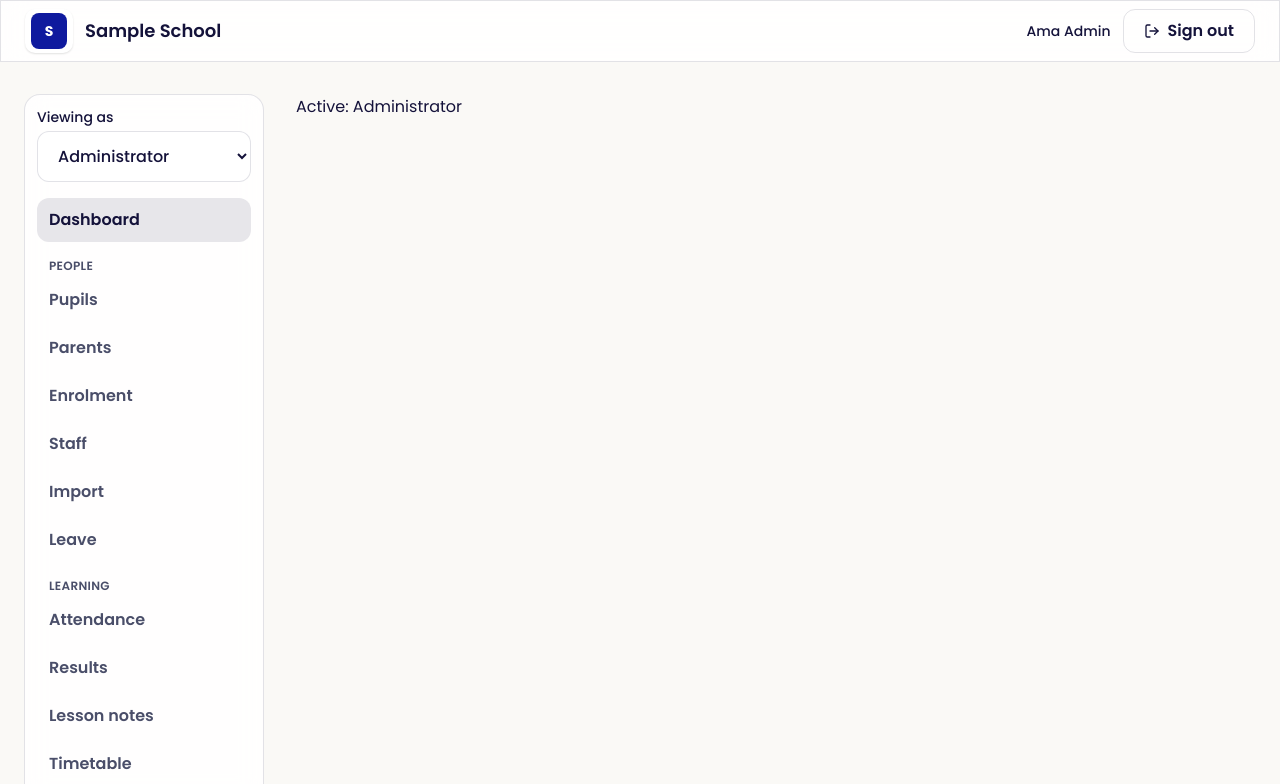
Test case: SchoolPortalShell › switches role, remembers it and opens that role's home
The image size is (1280, 784).
Select "Teacher" in the dropdown labelled "Viewing as": (144, 156) [37,131,251,182]
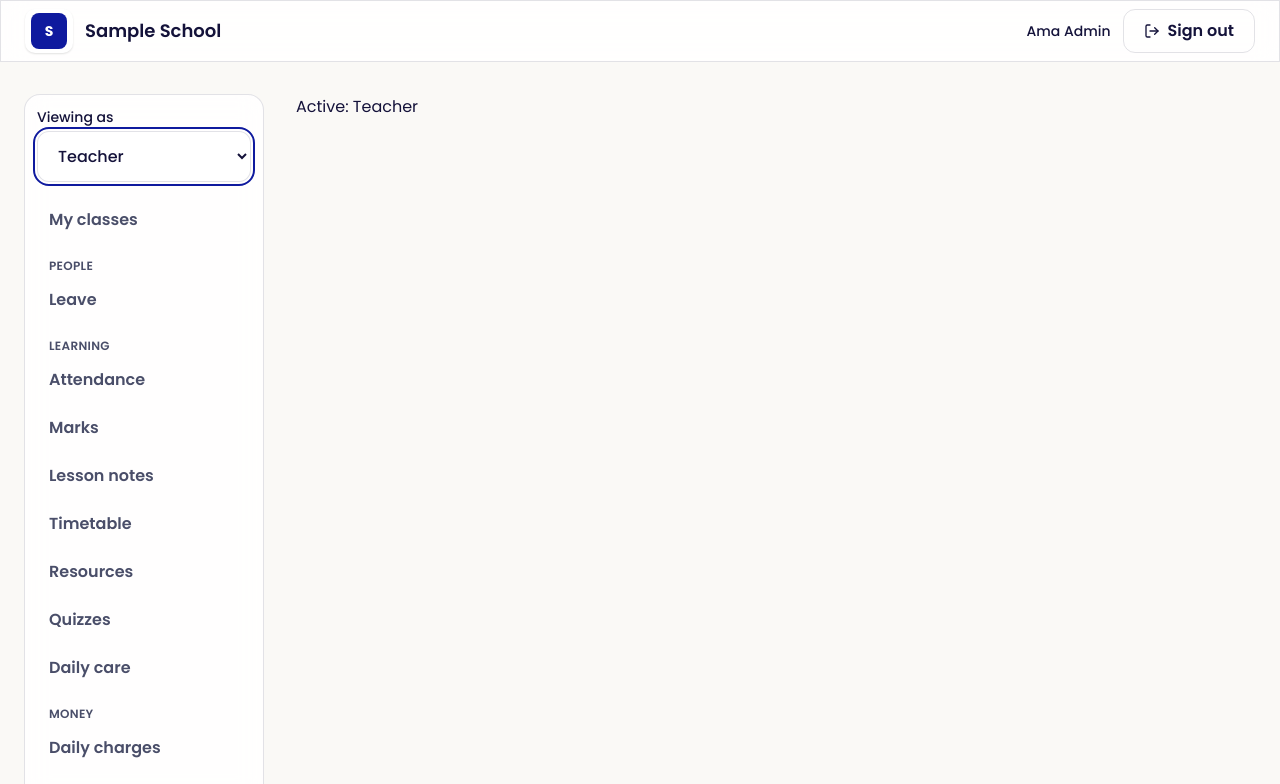
Now the text "Active: Teacher" is shown, box [296,95,418,118]
Now the link "My classes" is shown, box [49,208,138,231]
Now the link "Staff" is gone
